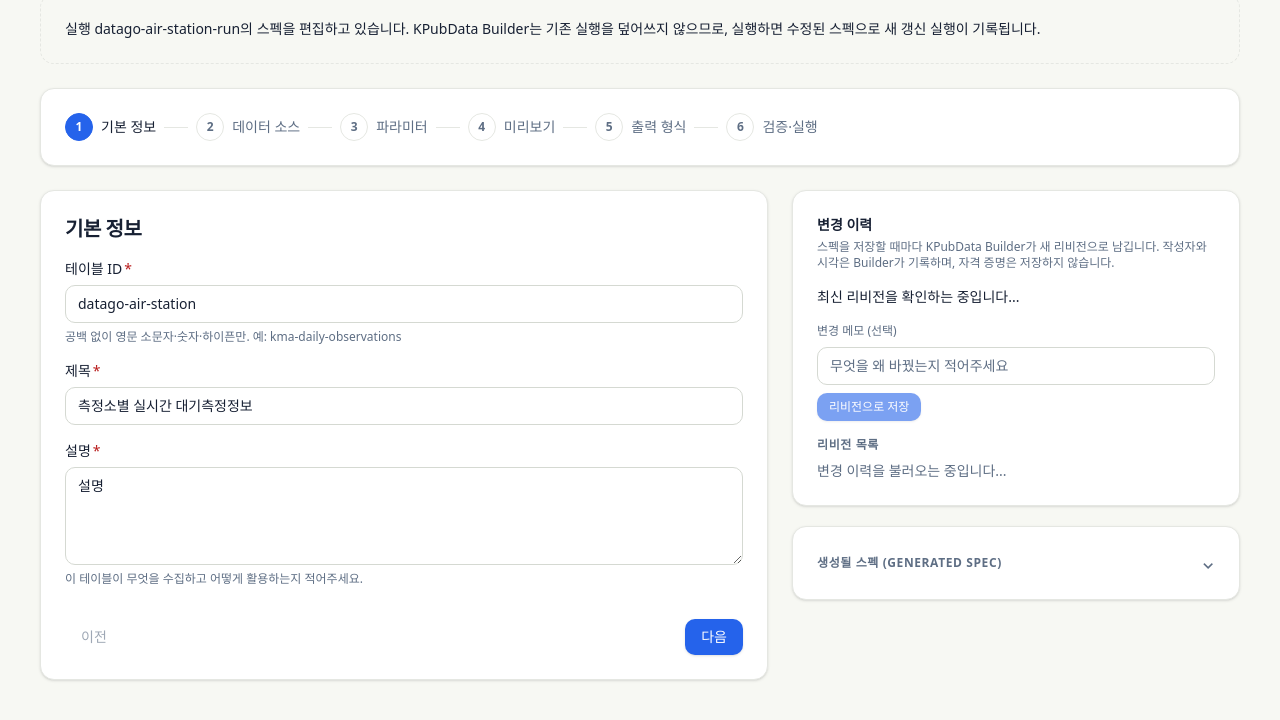
Scenario: the output path Builder would refuse (kpubdata-builder#1320) › goes on with two formats, since each gets its own path
(page scrolled)
Expected: the heading "기본 정보" is shown, [65,215,141,242]
Click the button "다음": {"x": 714, "y": 637} [685,619,743,655]
(page scrolled)
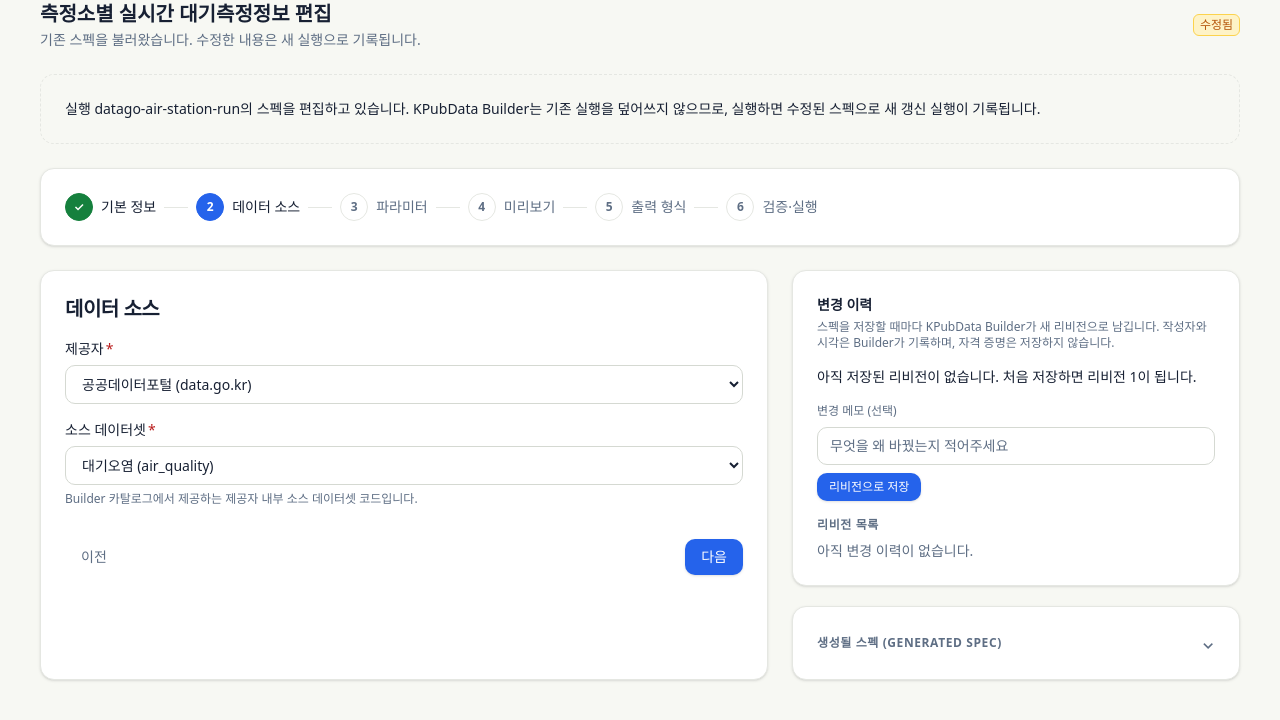
Now the heading "데이터 소스" is shown, box [65,295,159,322]
Click the button "다음": {"x": 714, "y": 557} [685,539,743,575]
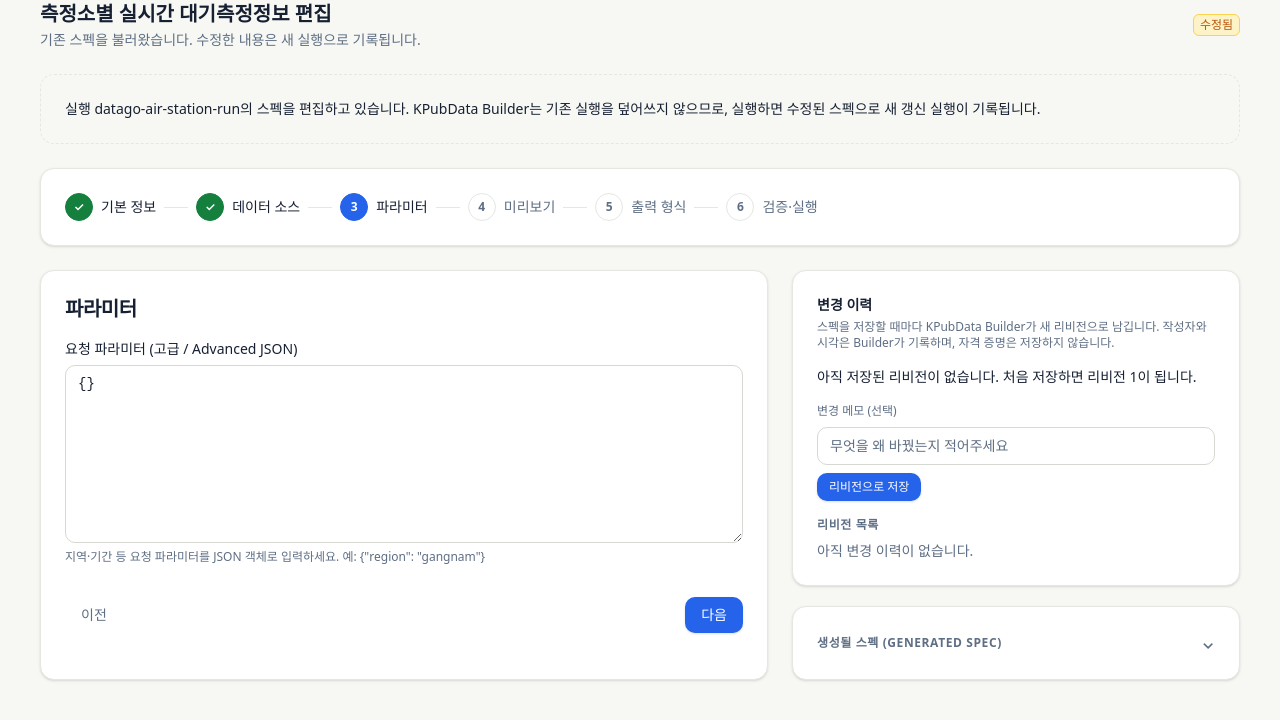
Now the heading "파라미터" is shown, box [65,295,137,322]
Click the button "다음": {"x": 714, "y": 615} [685,597,743,633]
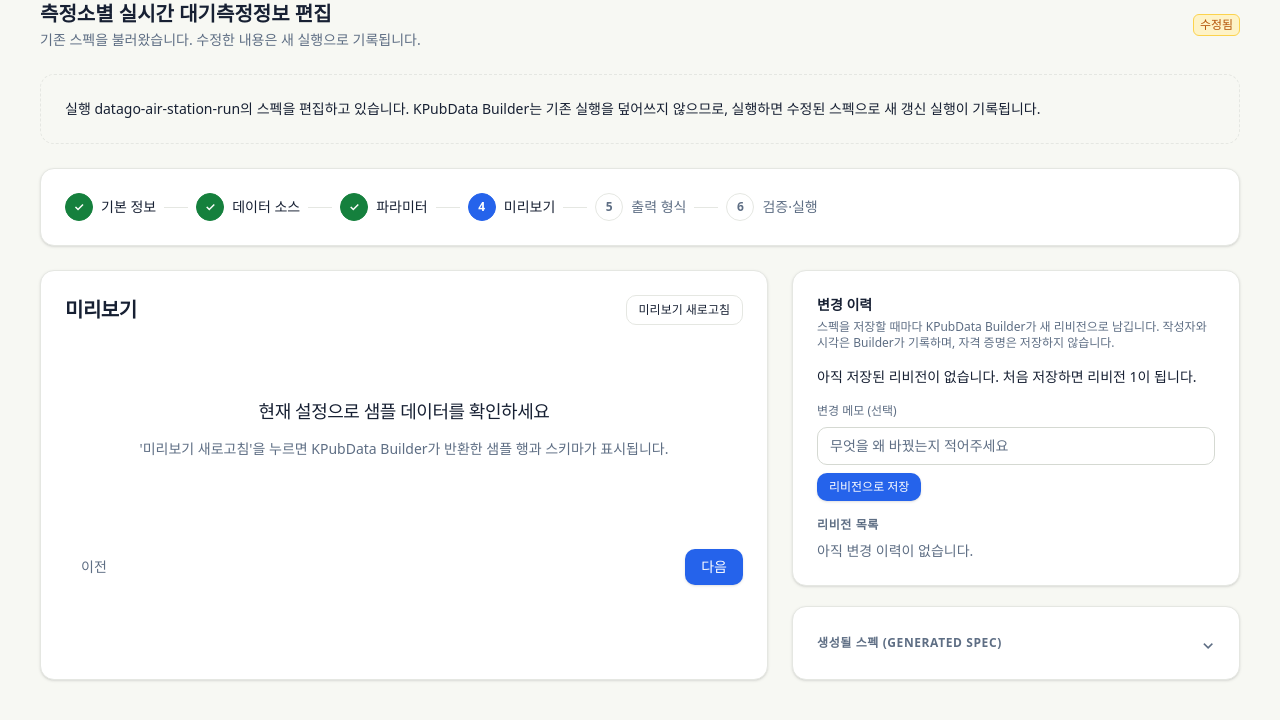
Now the heading "미리보기" is shown, box [65,296,137,324]
Click the button "다음": {"x": 714, "y": 567} [685,549,743,585]
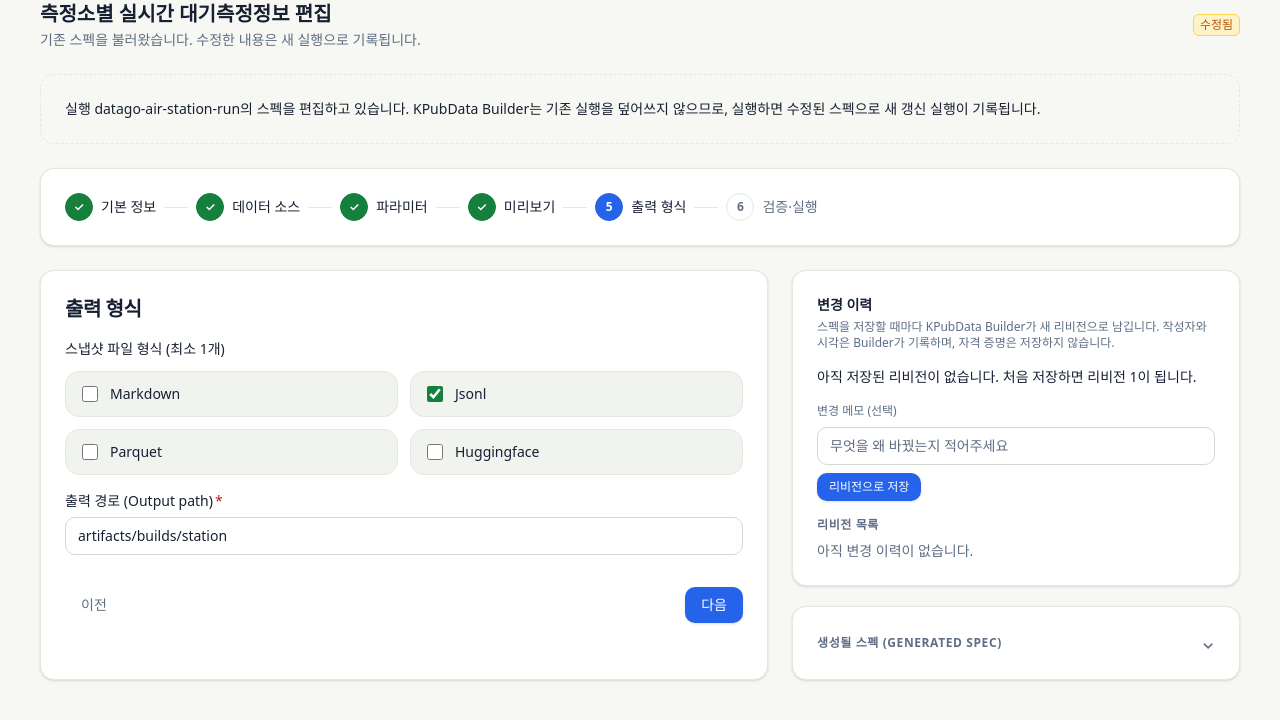
Now the heading "출력 형식" is shown, box [65,295,141,322]
Click the checkbox labelled "huggingface": {"x": 435, "y": 452} [427,444,443,460]
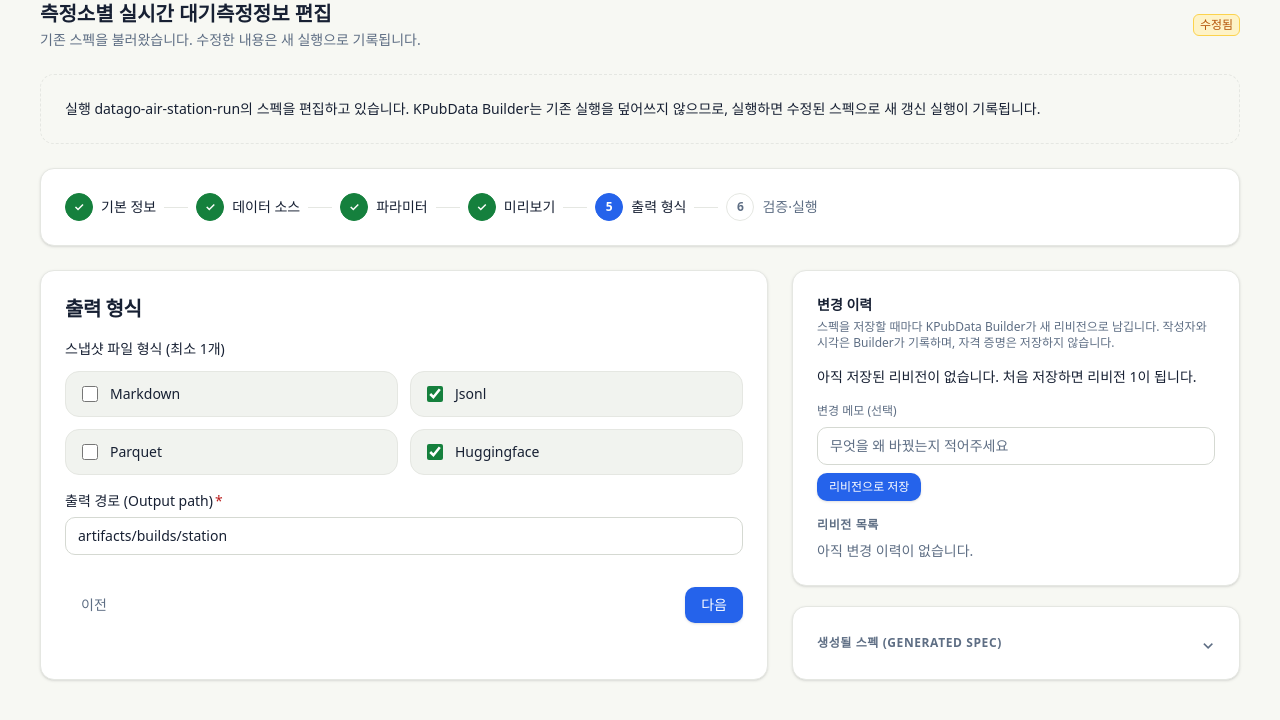
Click the button "다음": {"x": 714, "y": 605} [685,587,743,623]
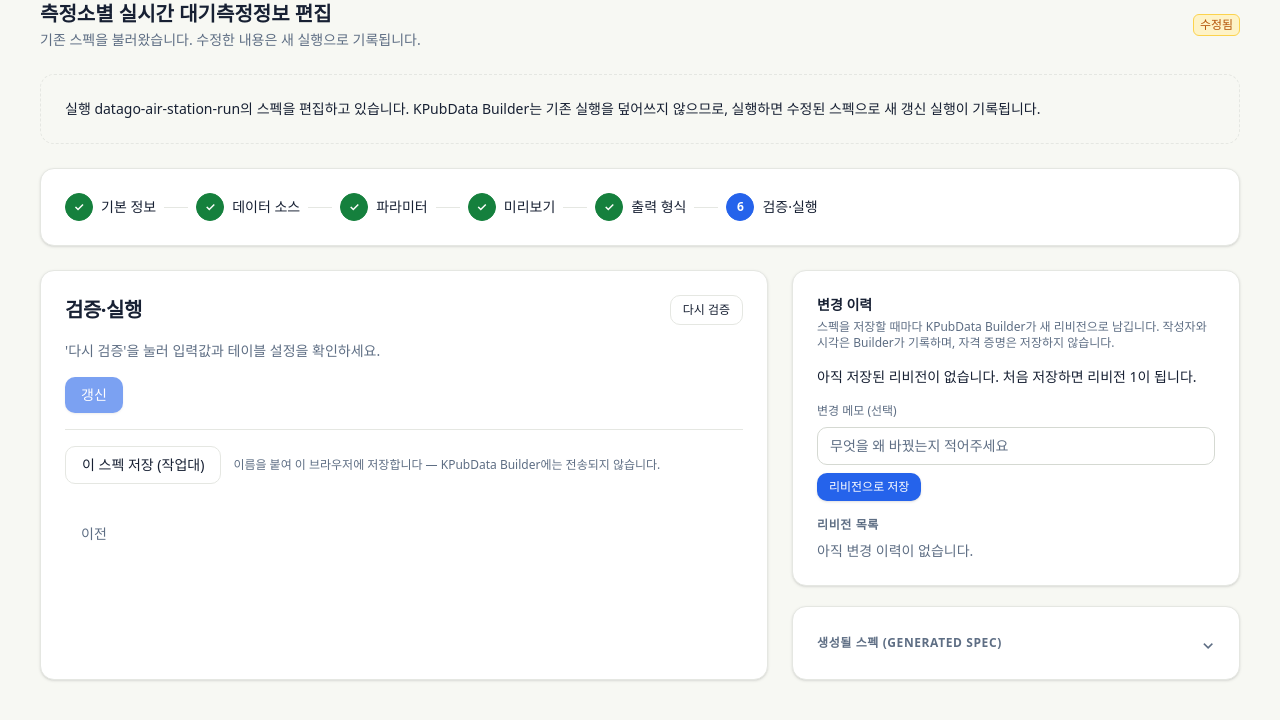
Now the heading "검증·실행" is shown, box [65,296,142,324]
